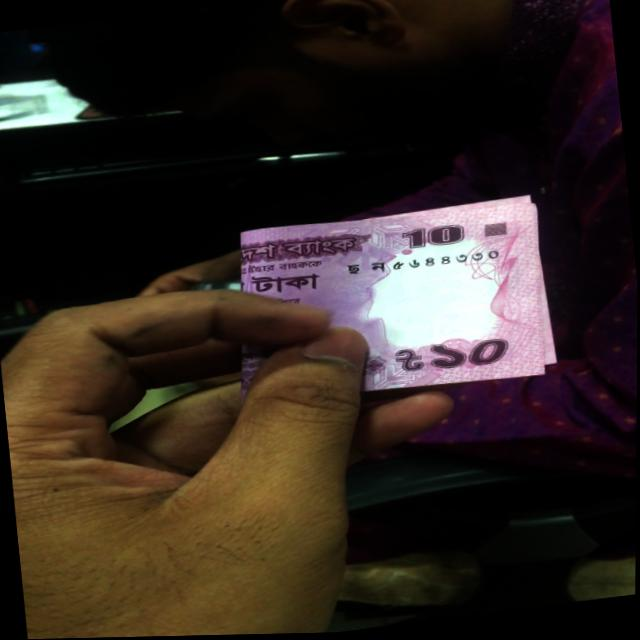Taka: (245, 190, 580, 412)
